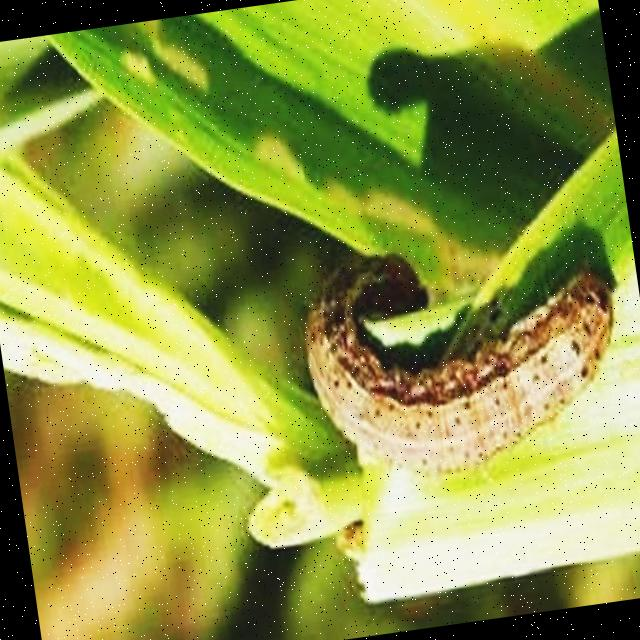worm: (294, 218, 639, 497)
